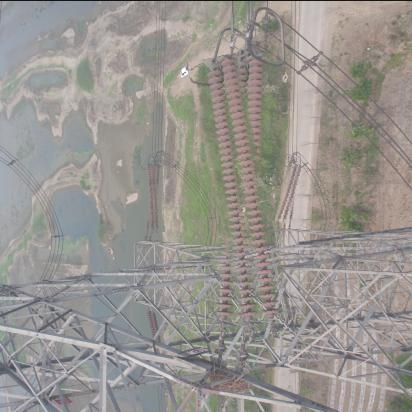insulator: (202, 54, 282, 343), (142, 164, 164, 234), (280, 163, 301, 224)
